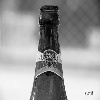beer: (33, 4, 69, 100)
